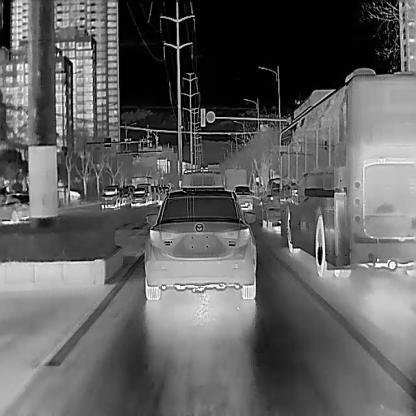car: (270, 67, 415, 277), (144, 191, 256, 299), (180, 168, 225, 191), (261, 177, 280, 231), (0, 193, 30, 224), (233, 185, 254, 211), (224, 167, 246, 191), (100, 185, 120, 211), (130, 187, 147, 206), (130, 176, 153, 188), (137, 184, 152, 202), (118, 185, 131, 205)
